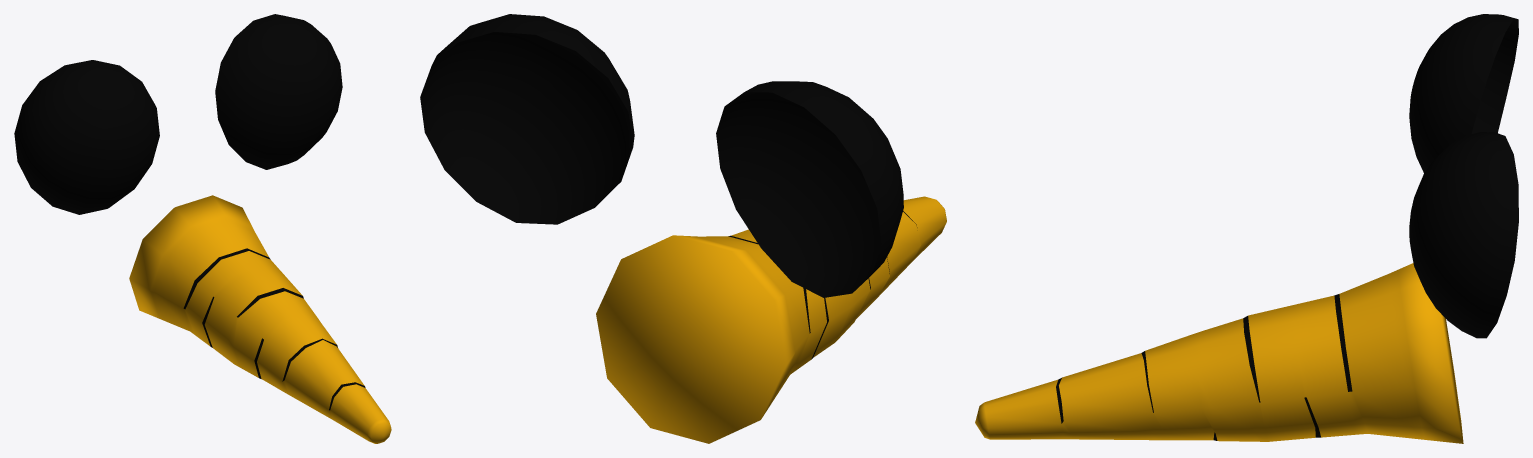
File: snowman-unity.fbx
3 views of the same model, side by side, from view 1: azimuth 30°, elevation 25°; view 2: azimuth 150°, elevation 25°; view 3: azimuth 270°, elevation 25° (orthographic). The views are drawn at different scales.
Parts seen in each view (by area): view 1: havuc, gozz, goz; view 2: havuc, goz, gozz; view 3: havuc, goz, gozz.
Boxes of the visible parts, x1,y1,x2,y2 form: havuc: (129,195,391,443); gozz: (14,60,159,214); goz: (215,14,342,169); havuc: (596,196,946,443); goz: (420,14,634,224); gozz: (716,81,903,297); havuc: (975,263,1463,443); goz: (1409,132,1518,338); gozz: (1409,14,1518,173).
Size of the model in its own units: 39.51 by 32.1 by 44.85.
